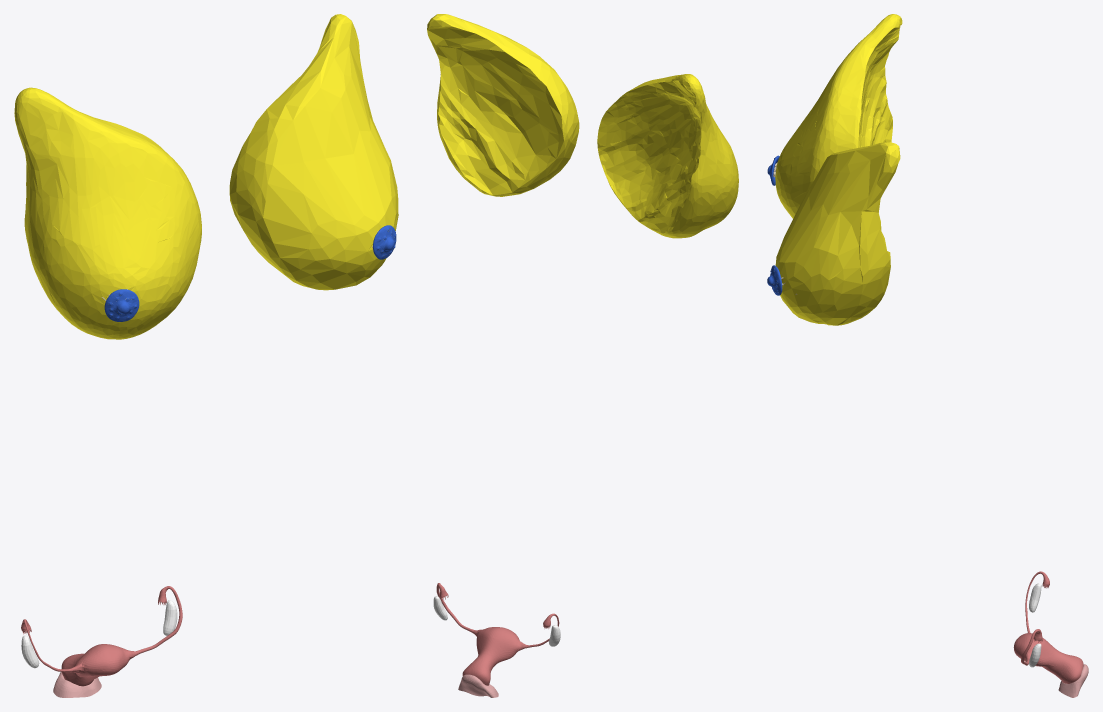
Rendered from female.glb.
3 renders of one model, left to right at view 1: azimuth 30°, elevation 25°; view 2: azimuth 150°, elevation 25°; view 3: azimuth 270°, elevation 25°, orthographic. The views are drawn at different scales.
Parts seen in each view (by area): view 1: Breast.r, Breast.l, Uterus_4, Areola.r, Uterus_1; view 2: Breast.l, Breast.r, Uterus_3, Uterus_1; view 3: Breast.l, Breast.r, Cervix of uterus_1.
Boxes of the visible parts, x1,y1,x2,y2 form: Breast.r: [14, 87, 201, 339]; Breast.l: [229, 14, 398, 290]; Uterus_4: [78, 644, 130, 675]; Areola.r: [104, 289, 139, 321]; Uterus_1: [53, 671, 101, 697]; Breast.l: [427, 14, 579, 196]; Breast.r: [597, 74, 738, 238]; Uterus_3: [476, 632, 518, 664]; Uterus_1: [458, 674, 498, 697]; Breast.l: [775, 142, 900, 325]; Breast.r: [775, 14, 902, 218]; Cervix of uterus_1: [1055, 654, 1083, 683].
Bounding box in the file's own units: 0.2888 × 0.5661 × 0.2697.
